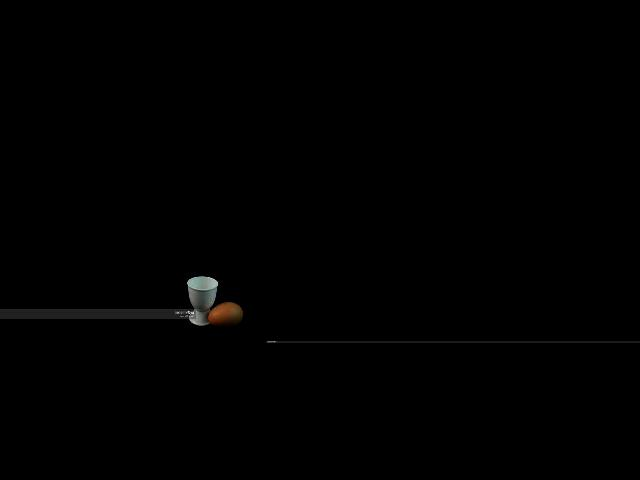egg: (207, 302, 242, 327)
